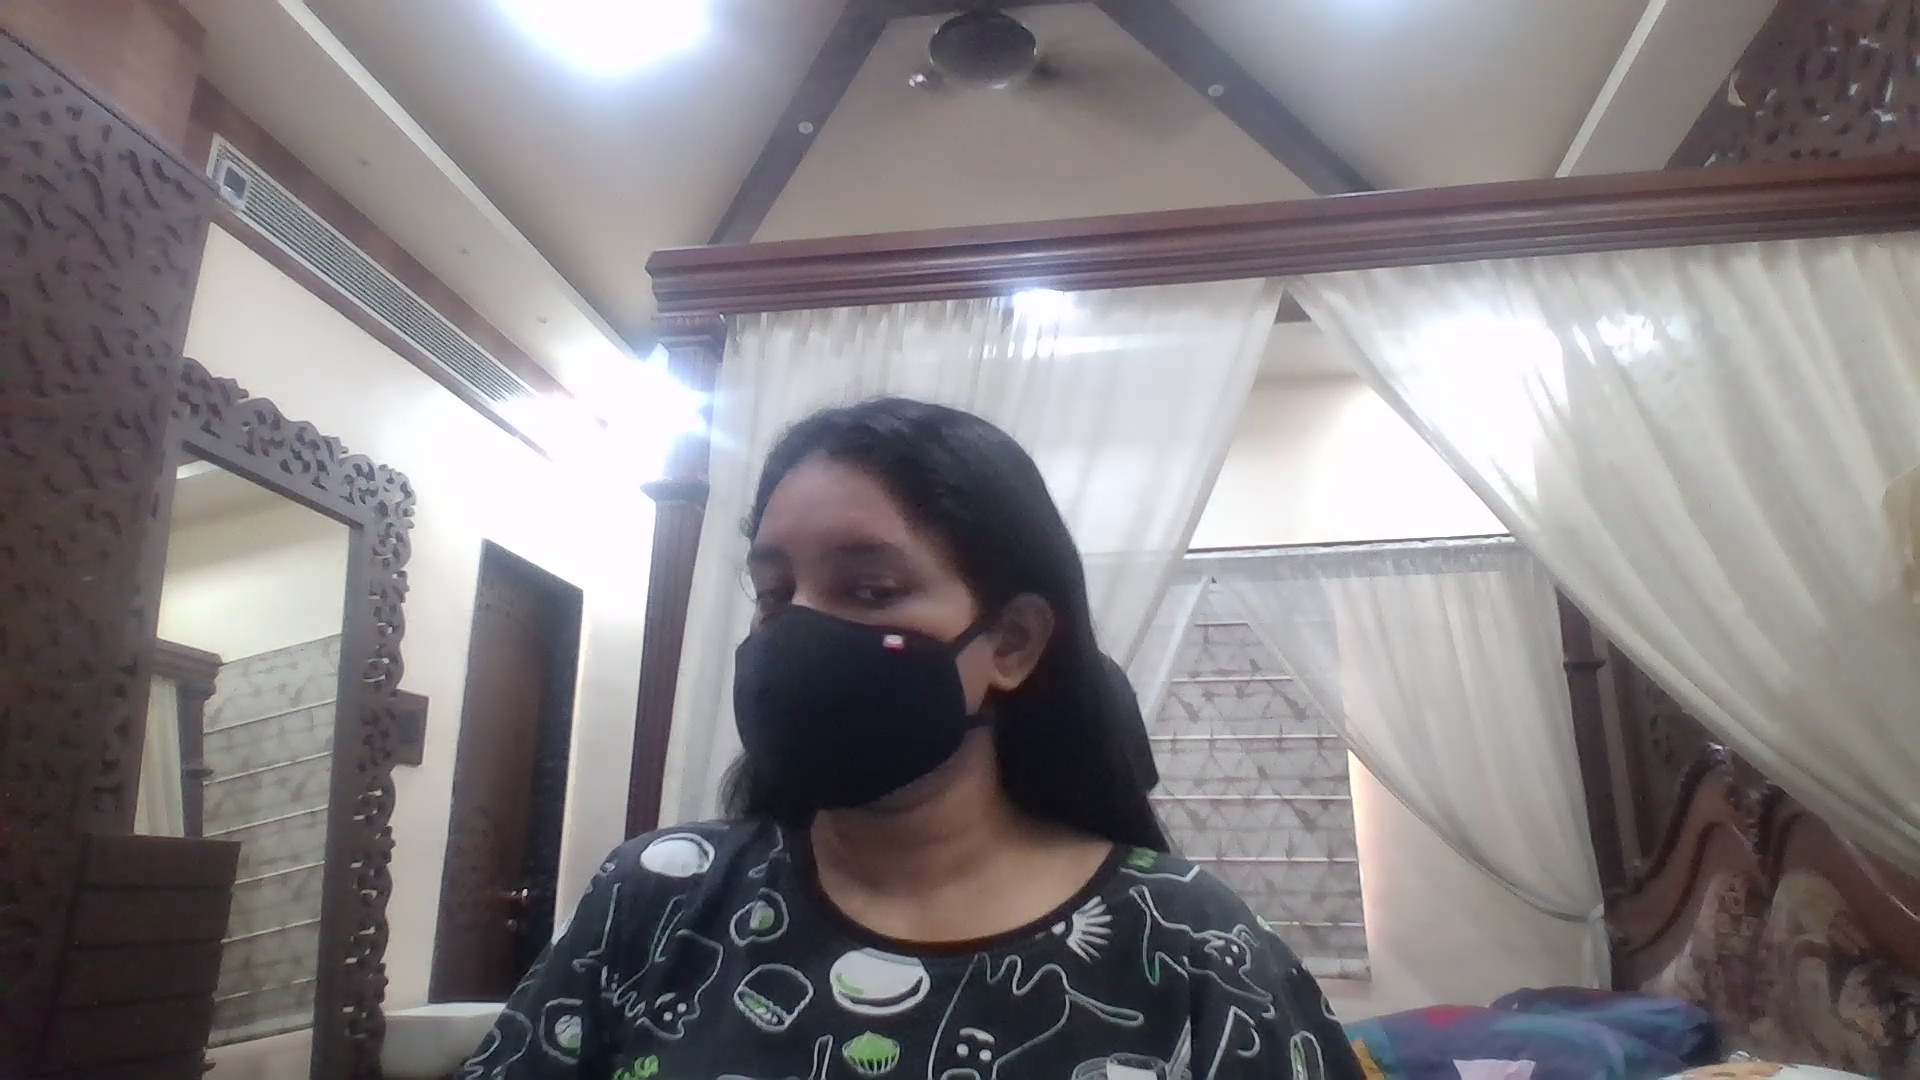Mask: (729, 620, 979, 814)
